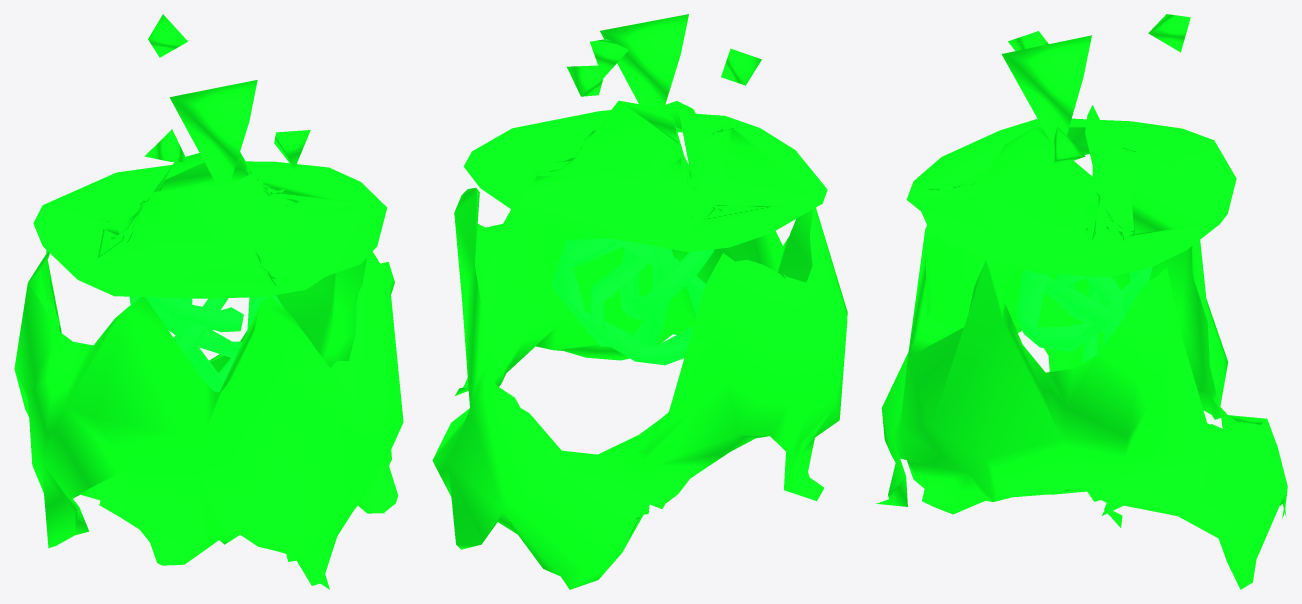
3 renders of one model, left to right at view 1: azimuth 30°, elevation 25°; view 2: azimuth 150°, elevation 25°; view 3: azimuth 270°, elevation 25°, orthographic. The views are drawn at different scales.
Parts seen in each view (by area): view 1: Circle.002; view 2: Circle.002; view 3: Circle.002.
Boxes of the visible parts, x1,y1,x2,y2 form: Circle.002: [14, 14, 403, 589]; Circle.002: [432, 14, 847, 589]; Circle.002: [876, 14, 1287, 589].
Bounding box in the file's own units: 1.86 × 2.57 × 1.85.
